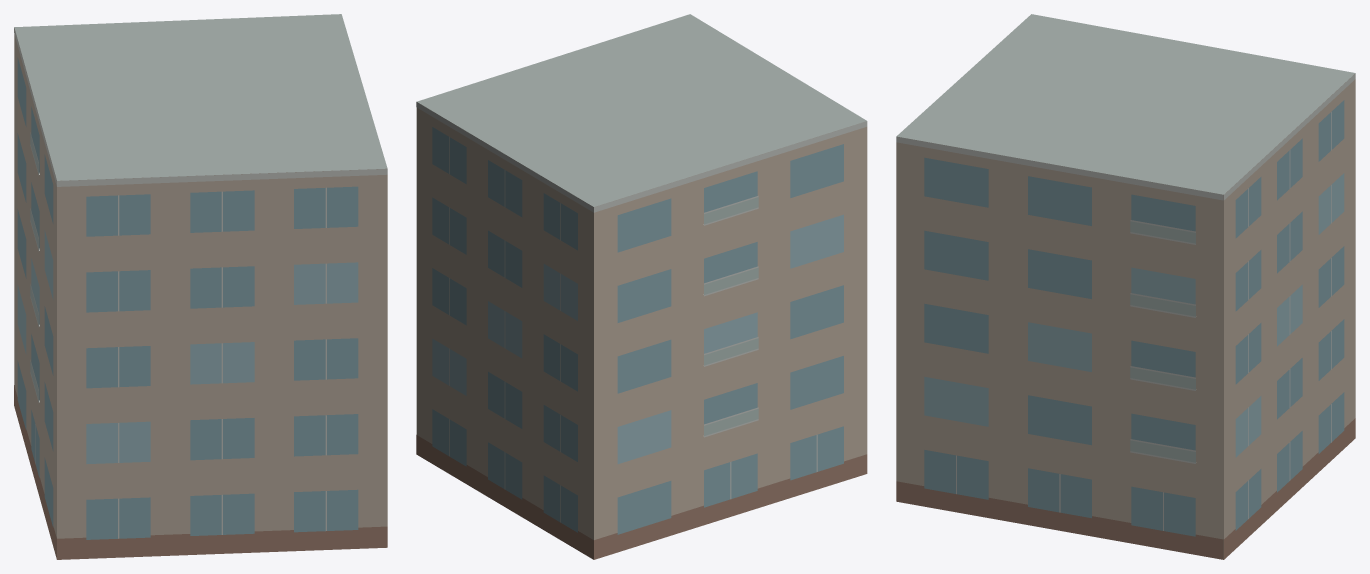
The model's file is survey-upis-33011547.glb.
3 views of the same model, side by side, from view 1: azimuth 30°, elevation 25°; view 2: azimuth 150°, elevation 25°; view 3: azimuth 270°, elevation 25° (orthographic). The views are drawn at different scales.
Parts seen in each view (by area): view 1: survey-upis-33011547.tmp; view 2: survey-upis-33011547.tmp; view 3: survey-upis-33011547.tmp.
Part boxes in pixels (box(x1,y1,x2,y2)): survey-upis-33011547.tmp: box(14, 14, 387, 559); survey-upis-33011547.tmp: box(416, 14, 867, 559); survey-upis-33011547.tmp: box(896, 14, 1355, 559).
Size of the model in its own units: 16.2 by 15.25 by 17.4.
